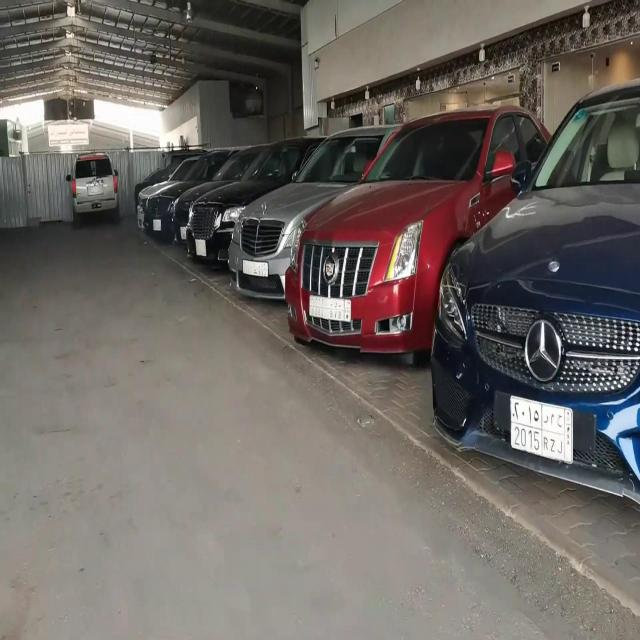license_plate: (506, 390, 578, 470), (304, 290, 354, 326), (240, 255, 270, 279), (193, 233, 207, 255), (84, 195, 103, 211), (150, 214, 163, 231)
